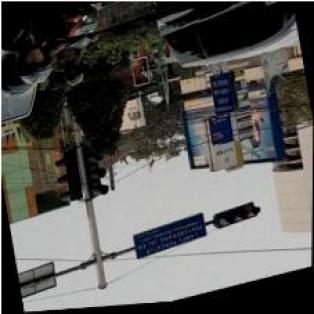Semaforo Rojo: (212, 205, 263, 231)
